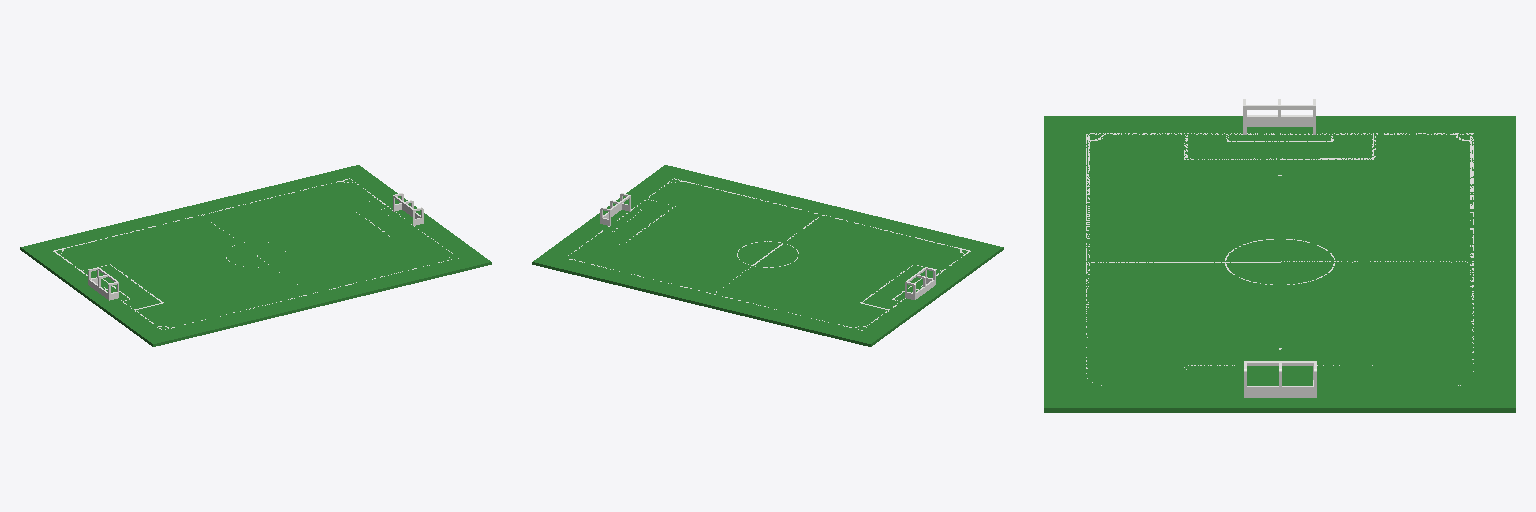
URDF robot description (arena):
<?xml version="1.0" ?>
<!-- =================================================================================== -->
<!-- |    This document was autogenerated by xacro from urdf/arena.xacro               | -->
<!-- |    EDITING THIS FILE BY HAND IS NOT RECOMMENDED                                 | -->
<!-- =================================================================================== -->
<robot xmlns:xacro="http://www.ros.org/wiki/xacro" name="arena">
  <material name="silver_default">
    <color rgba="0.700 0.700 0.700 1.000"/>
  </material>
  <material name="powder_coat_rough_green">
    <color rgba="0.26666666666666666 0.5882352941176471 0.2823529411764706 0.0"/>
  </material>
  <material name="powder_coat_rough_white">
    <color rgba="0.9647058823529412 0.9647058823529412 0.9529411764705882 0.0"/>
  </material>
  <link name="base_link">
    <inertial>
      <origin xyz="12.000000000000002 7.999999999999999 0.15071609078444373" rpy="0 0 0"/>
      <mass value="93375.38975607335"/>
      <inertia ixx="2248162.518846" iyy="4825902.231392" izz="7073437.885719" ixy="0.0" iyz="-0.0" ixz="0.0"/>
    </inertial>
    <visual>
      <origin xyz="0 0 0" rpy="0 0 0"/>
      <geometry>
        <mesh filename="package://arena_description/meshes/base_link.stl" scale="0.001 0.001 0.001"/>
      </geometry>
      <material name="powder_coat_rough_green"/>
    </visual>
    <collision>
      <origin xyz="0 0 0" rpy="0 0 0"/>
      <geometry>
        <mesh filename="package://arena_description/meshes/base_link.stl" scale="0.001 0.001 0.001"/>
      </geometry>
    </collision>
  </link>
  <link name="lines_1">
    <inertial>
      <origin xyz="2.1316282072803006e-14 -1.7763568394002505e-14 -0.024999999999999856" rpy="0 0 0"/>
      <mass value="6207.291096484064"/>
      <inertia ixx="151339.772467" iyy="410663.790844" izz="562000.976939" ixy="0.0" iyz="-0.0" ixz="0.0"/>
    </inertial>
    <visual>
      <origin xyz="-12.0 -8.0 -0.25" rpy="0 0 0"/>
      <geometry>
        <mesh filename="package://arena_description/meshes/lines_1.stl" scale="0.001 0.001 0.001"/>
      </geometry>
      <material name="powder_coat_rough_white"/>
    </visual>
    <collision>
      <origin xyz="-12.0 -8.0 -0.25" rpy="0 0 0"/>
      <geometry>
        <mesh filename="package://arena_description/meshes/lines_1.stl" scale="0.001 0.001 0.001"/>
      </geometry>
    </collision>
  </link>
  <link name="Goal_post_1_1">
    <inertial>
      <origin xyz="-0.3470758041525085 -0.04252346159721121 0.46666230053339774" rpy="0 0 0"/>
      <mass value="2527.7607834350138"/>
      <inertia ixx="2709.097075" iyy="534.987868" izz="2532.519199" ixy="16.368376" iyz="-11.358587" ixz="-127.45024"/>
    </inertial>
    <visual>
      <origin xyz="-1.0 -8.0 -0.25" rpy="0 0 0"/>
      <geometry>
        <mesh filename="package://arena_description/meshes/Goal_post_1_1.stl" scale="0.001 0.001 0.001"/>
      </geometry>
      <material name="powder_coat_rough_white"/>
    </visual>
    <collision>
      <origin xyz="-1.0 -8.0 -0.25" rpy="0 0 0"/>
      <geometry>
        <mesh filename="package://arena_description/meshes/Goal_post_1_1.stl" scale="0.001 0.001 0.001"/>
      </geometry>
    </collision>
  </link>
  <link name="Goal_post_1_2">
    <inertial>
      <origin xyz="0.3470758041526203 0.04252346159631415 0.46666230053339763" rpy="0 0 0"/>
      <mass value="2527.7607834350138"/>
      <inertia ixx="2709.097075" iyy="534.987868" izz="2532.519199" ixy="16.368376" iyz="11.358587" ixz="127.45024"/>
    </inertial>
    <visual>
      <origin xyz="-23.0 -8.0 -0.25" rpy="0 0 0"/>
      <geometry>
        <mesh filename="package://arena_description/meshes/Goal_post_1_2.stl" scale="0.001 0.001 0.001"/>
      </geometry>
      <material name="powder_coat_rough_white"/>
    </visual>
    <collision>
      <origin xyz="-23.0 -8.0 -0.25" rpy="0 0 0"/>
      <geometry>
        <mesh filename="package://arena_description/meshes/Goal_post_1_2.stl" scale="0.001 0.001 0.001"/>
      </geometry>
    </collision>
  </link>
  <joint name="Rigid 1" type="fixed">
    <origin xyz="12.0 8.0 0.25" rpy="0 0 0"/>
    <parent link="base_link"/>
    <child link="lines_1"/>
  </joint>
  <joint name="Rigid 2" type="fixed">
    <origin xyz="-11.0 0.0 0.0" rpy="0 0 0"/>
    <parent link="lines_1"/>
    <child link="Goal_post_1_1"/>
  </joint>
  <joint name="Rigid 3" type="fixed">
    <origin xyz="11.0 0.0 0.0" rpy="0 0 0"/>
    <parent link="lines_1"/>
    <child link="Goal_post_1_2"/>
  </joint>
</robot>

--- What the picture shows (computed from the rendered views, not written in the file) ---
The picture shows the robot from 3 angles, left to right: view 1: azimuth 30°, elevation 25°; view 2: azimuth 150°, elevation 25°; view 3: azimuth 270°, elevation 25°; orthographic projection.
Robot: arena — 4 links, 3 joints (3 fixed); root link base_link; default pose: every joint at zero.
Links seen in each view (by area): view 1: base_link, lines_1; view 2: base_link, lines_1; view 3: base_link, lines_1, Goal_post_1_2, Goal_post_1_1.
Boxes of the visible links, box(x1,y1,x2,y2) form: base_link: box(20, 165, 491, 346); lines_1: box(53, 178, 458, 329); base_link: box(532, 165, 1003, 346); lines_1: box(568, 178, 970, 330); base_link: box(1044, 116, 1515, 412); lines_1: box(1086, 133, 1473, 385); Goal_post_1_2: box(1244, 361, 1316, 397); Goal_post_1_1: box(1243, 99, 1315, 134).
Bounding box of the posed robot: 25 × 17 × 1.32 m (x, y, z).
4 mesh visuals loaded from 4 distinct referenced files (4 binary STL).